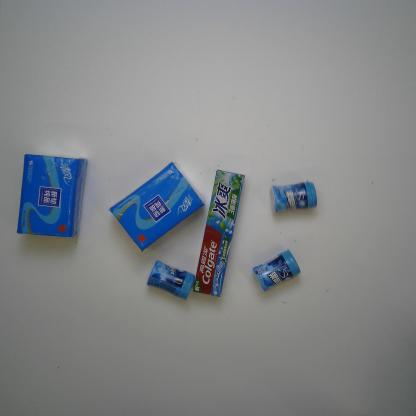Gum: (146, 258, 198, 304), (251, 247, 300, 292), (268, 179, 318, 216)
Personal Hygiene: (192, 168, 246, 300)
Tissue: (107, 160, 206, 254), (14, 152, 89, 240)
